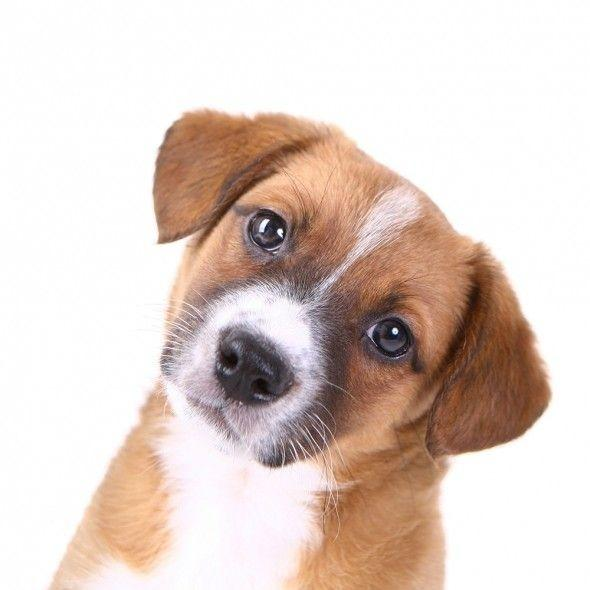puppy-dog: (54, 110, 553, 590)
